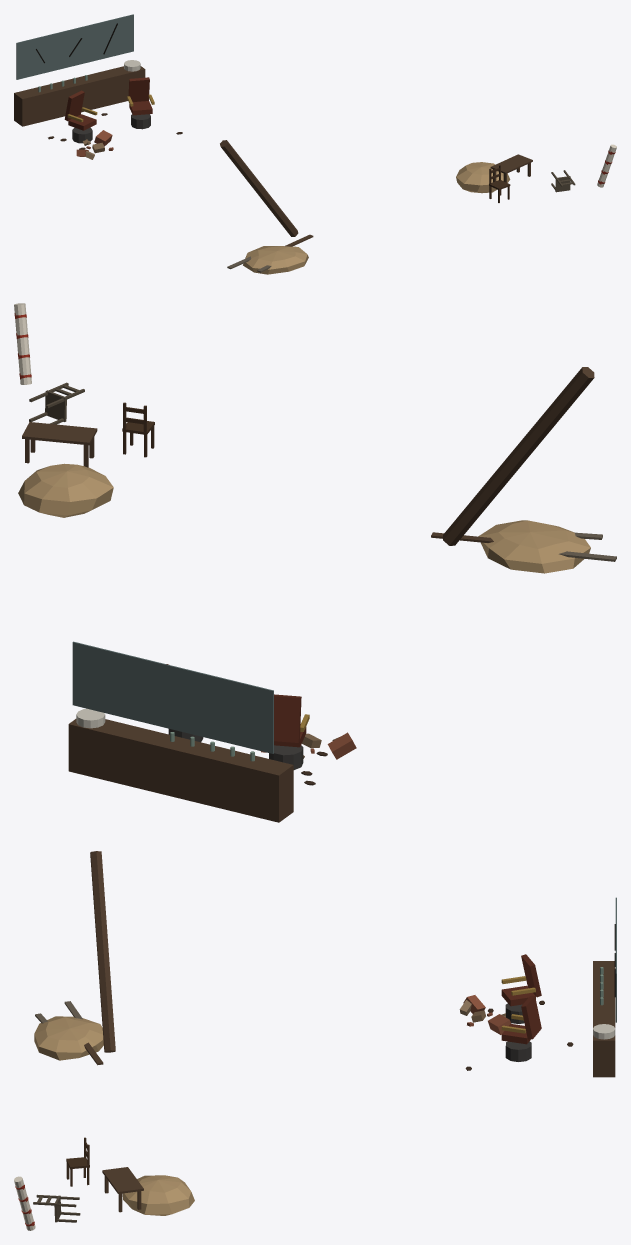
The model's file is TownRoom_barber.glb.
The picture shows the model from 3 angles, top to bottom: view 1: azimuth 30°, elevation 25°; view 2: azimuth 150°, elevation 25°; view 3: azimuth 270°, elevation 25°; orthographic projection. The views are drawn at different scales.
Visible parts, largest first — view 1: TownRoom_barber.001; view 2: TownRoom_barber.001; view 3: TownRoom_barber.001.
Part boxes in pixels (x1,y1,x2,y2): TownRoom_barber.001: (14,14,616,274); TownRoom_barber.001: (14,303,616,822); TownRoom_barber.001: (14,851,616,1230).
Bounding box in the file's own units: 12.94 × 4.37 × 13.41.
